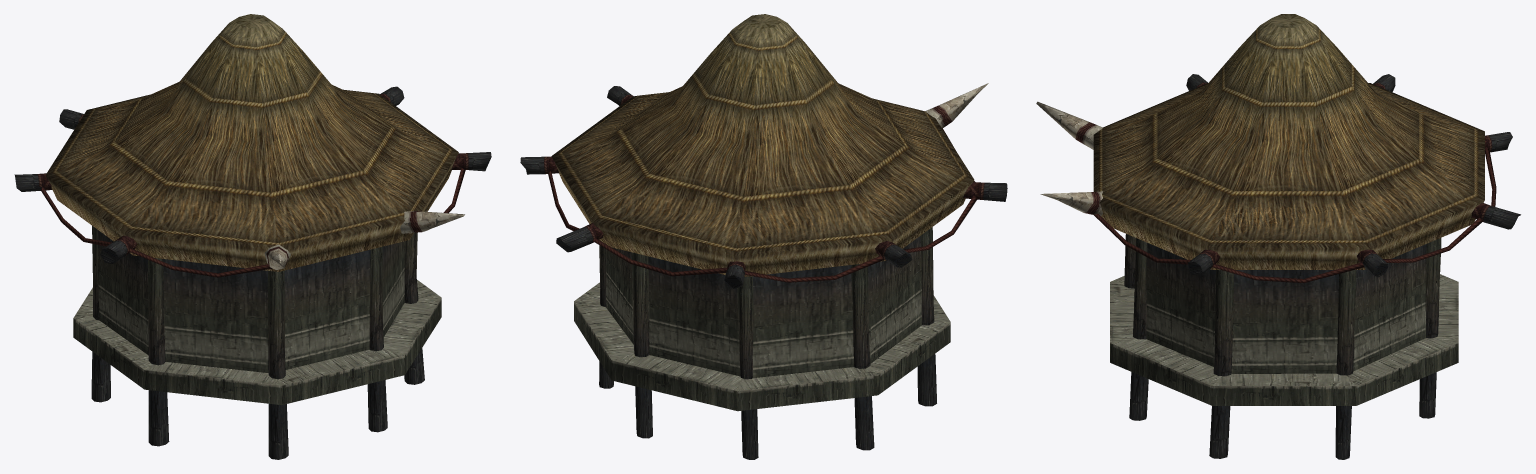
Rendered from camp_redthief_build_07.fbx.
3 views of the same model, side by side, from view 1: azimuth 30°, elevation 25°; view 2: azimuth 150°, elevation 25°; view 3: azimuth 270°, elevation 25° (orthographic). The views are drawn at different scales.
Parts seen in each view (by area): view 1: camp_redthief_build_07a; view 2: camp_redthief_build_07a; view 3: camp_redthief_build_07a.
Boxes of the visible parts, x1,y1,x2,y2 form: camp_redthief_build_07a: (14,14,491,459); camp_redthief_build_07a: (520,14,1007,459); camp_redthief_build_07a: (1036,14,1520,459).
Bounding box in the file's own units: 8.85 × 7.96 × 9.38.
